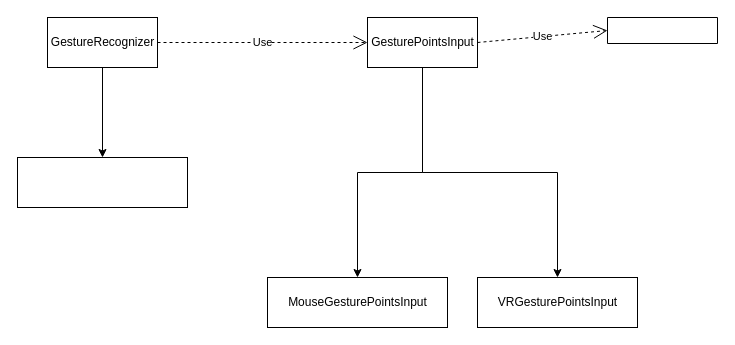
This 735x345 diagram has some shape labels left out. The centre of each missing label's shape, as x and y in pixels:
"GesturePoints" goes at point (662, 30).
"PDolarGestureRecognizer" goes at point (102, 182).
